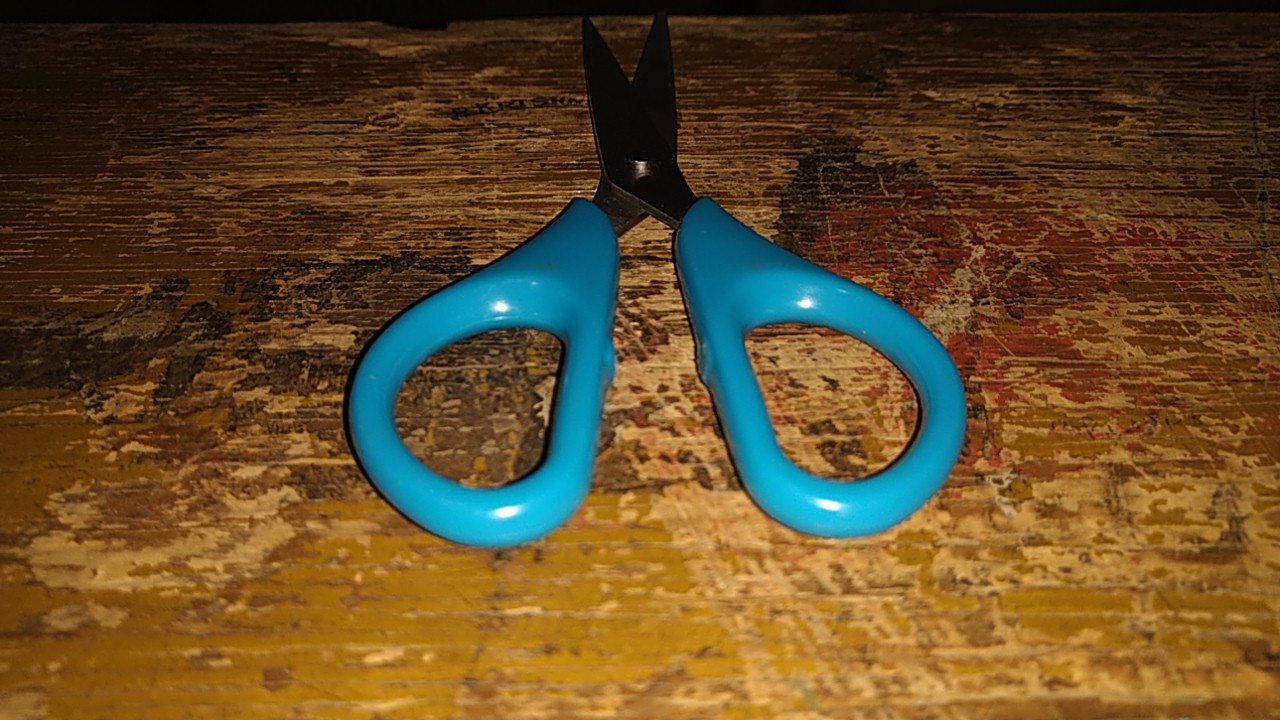scissor: (339, 8, 978, 551)
